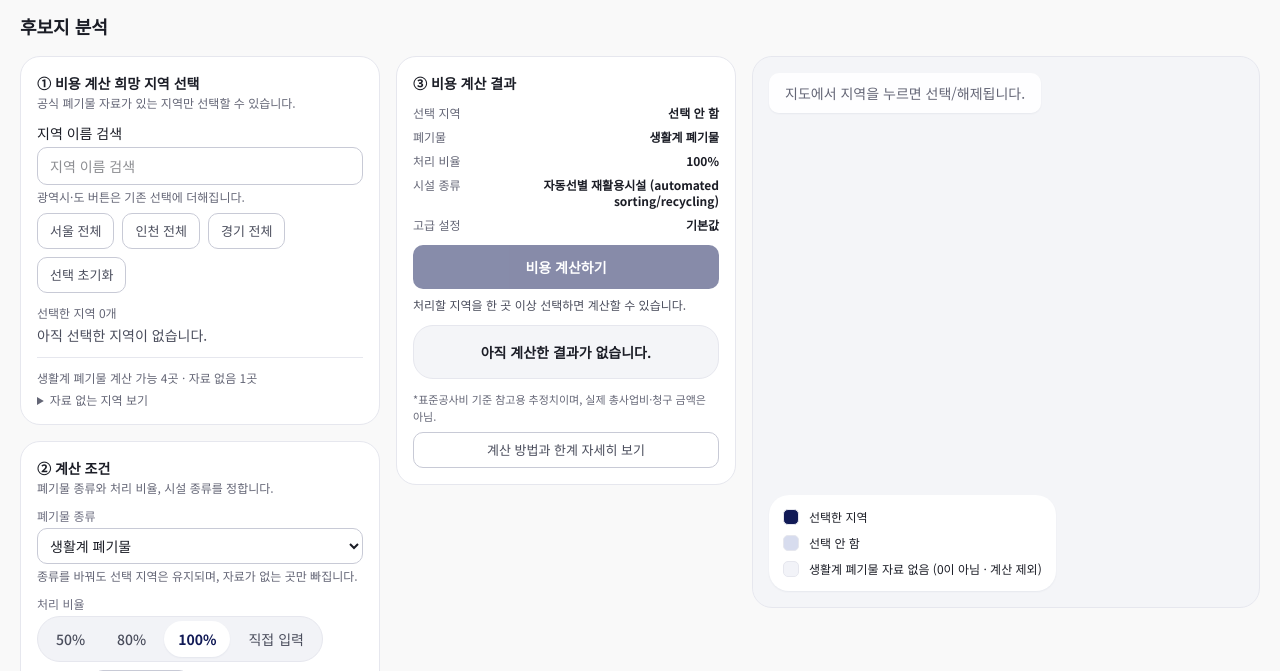
Test case: setup workflow › disables calculate until at least one region is selected, and says why
This screenshot has width=1280, height=671.
Check: the button with test id "facility-cost-calculate" is disabled, box [413,245,719,289]
Check: the message with test id "facility-cost-calculate-status" shows "지역을 한 곳 이상 선택", box [413,296,686,313]
Focus the dropdown with test id "facility-cost-region-search" at (200, 166), box [37,147,363,185]
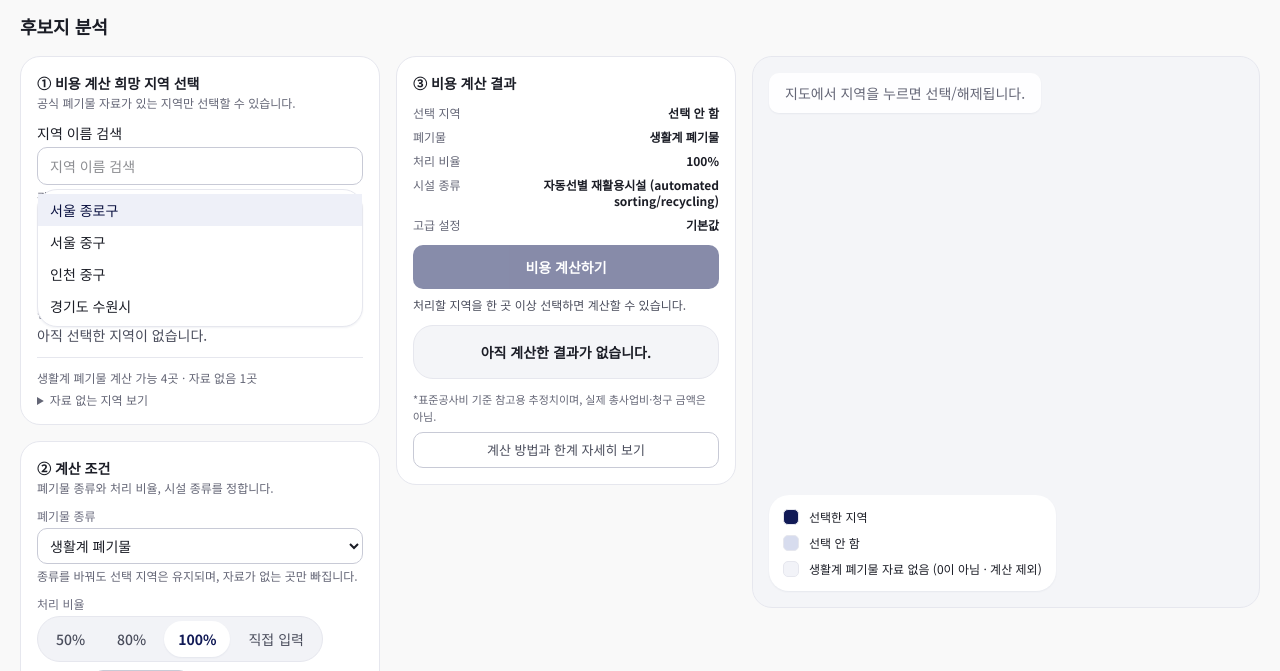
Click the option with test id "facility-cost-region-option" showing "서울 종로구" at (84, 210), box [38,194,362,226]
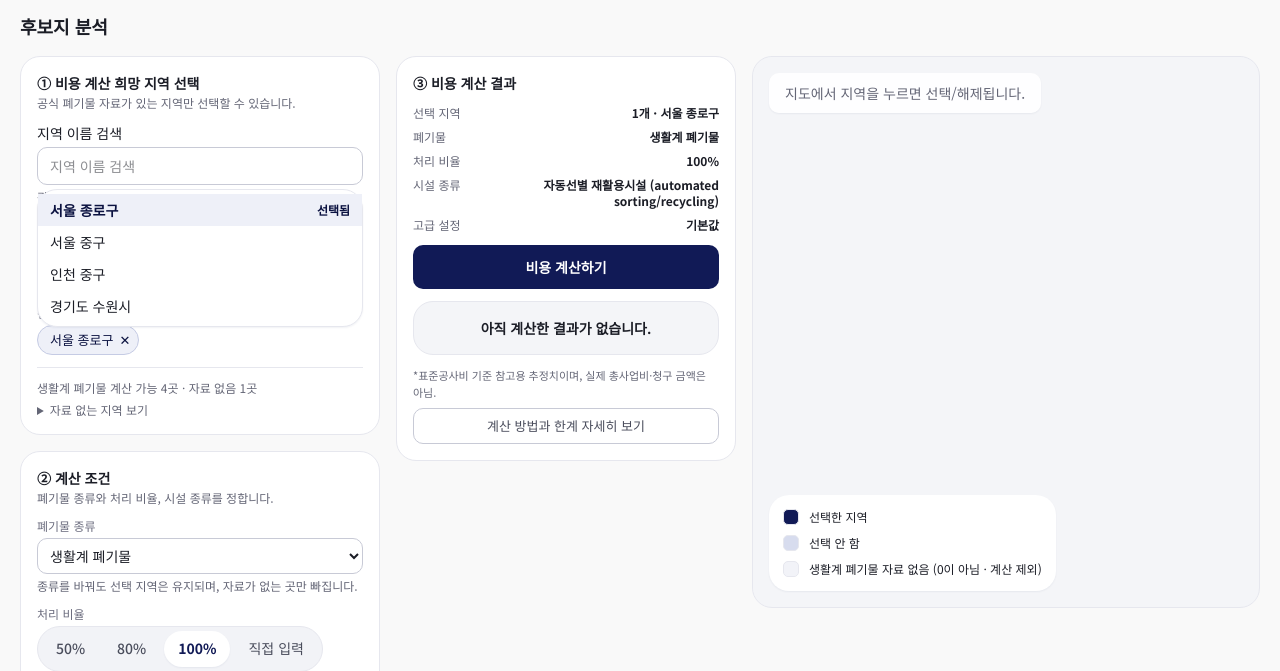
Check: the button with test id "facility-cost-calculate" is enabled, box [413,245,719,289]
